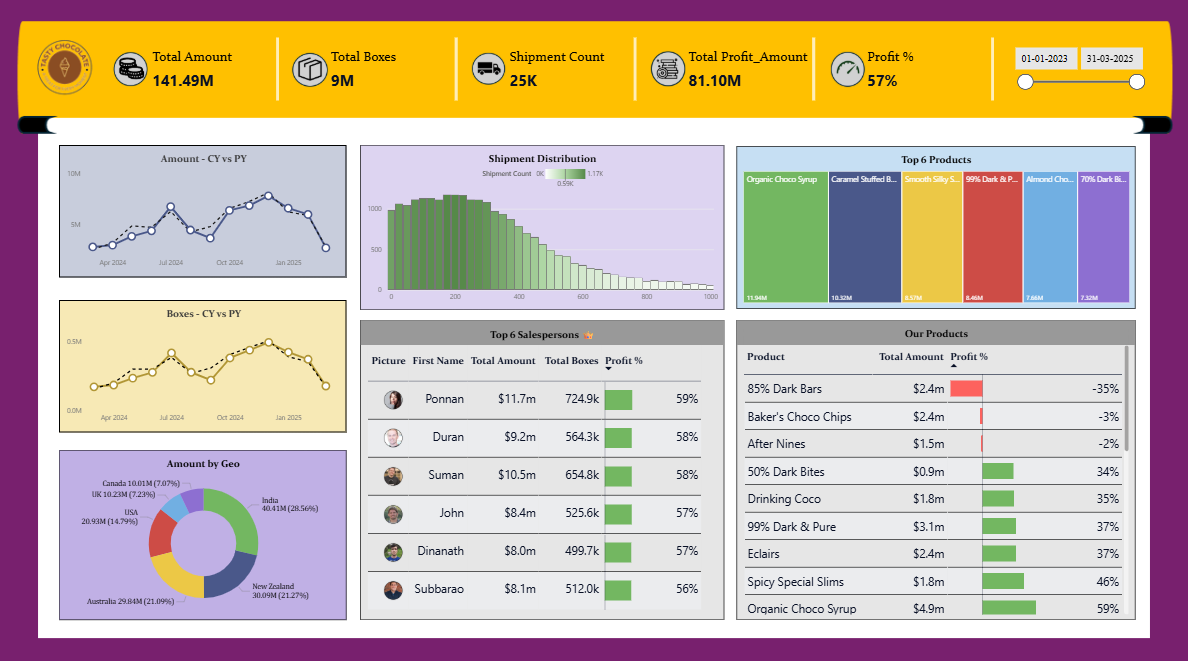

What the dashboard file says about the page in this screenshot:
{"tool":"powerbi","page":{"name":"BI Report","canvas":[1920,1080],"ordinal":7},"visuals":[{"type":"lineChart","title":"Amount - CY vs PY","fields":{"Y":["shipments.Total Amount","calendar.Total Amount(lastyear)"],"Category":["calendar.Start of Month"]},"box":[103.1,240,460,212.3],"z":0},{"type":"lineChart","title":"Boxes - CY vs PY","fields":{"Category":["calendar.Start of Month"],"Y":["shipments.Total Boxes","calendar.Total Boxes(last year)"]},"box":[103.1,487.7,460,212.3],"z":1000},{"type":"donutChart","title":"Amount by Geo","fields":{"Y":["shipments.Total Amount"],"Category":["locations.Geo"]},"box":[103.1,727.7,460,272.3],"z":2000},{"type":"clusteredColumnChart","title":"Shipment Distribution","fields":{"Y":["shipments.Shipment Count"],"Category":["shipments.Boxes (bins)"]},"box":[586,240,582,264],"z":3000},{"type":"tableEx","title":"Top 6 Salespersons 👑","fields":{"Values":["people.Picture","people.First Name","shipments.Total Amount","shipments.Total Boxes","shipments.Profit %"]},"box":[586,520,582,480],"z":4000},{"type":"treemap","title":"Top 6 Products","fields":{"Values":["shipments.Total Amount"],"Group":["products.Product"]},"box":[1188,242,638,260],"z":5000},{"type":"tableEx","title":"Our Products","fields":{"Values":["products.Product","shipments.Total Amount","shipments.Profit %"]},"box":[1188,520,638,480],"z":6000},{"type":"cardVisual","fields":{"Data":["shipments.Total Amount","shipments.Total Boxes","shipments.Shipment Count","shipments.Total Profit_Amount","shipments.Profit %"]},"box":[167.3,63.5,1432.7,105.8],"z":7000},{"type":"slicer","fields":{"Values":["calendar.cal_date"]},"box":[1622,74,228,86],"z":8000}]}

Visuals, with their boxes in screenshot pixels (x1, y1, x2, y2), scaled from the page's 1920x1080 canvas onto the 1188x661 screenshot:
"Amount - CY vs PY" lineChart: {"left": 64, "top": 147, "right": 348, "bottom": 277}
"Boxes - CY vs PY" lineChart: {"left": 64, "top": 298, "right": 348, "bottom": 428}
"Amount by Geo" donutChart: {"left": 64, "top": 445, "right": 348, "bottom": 612}
"Shipment Distribution" clusteredColumnChart: {"left": 363, "top": 147, "right": 723, "bottom": 308}
"Top 6 Salespersons 👑" tableEx: {"left": 363, "top": 318, "right": 723, "bottom": 612}
"Top 6 Products" treemap: {"left": 735, "top": 148, "right": 1130, "bottom": 307}
"Our Products" tableEx: {"left": 735, "top": 318, "right": 1130, "bottom": 612}
cardVisual - shipments.Total Amount x shipments.Total Boxes: {"left": 104, "top": 39, "right": 990, "bottom": 104}
slicer - calendar.cal_date: {"left": 1004, "top": 45, "right": 1145, "bottom": 98}
